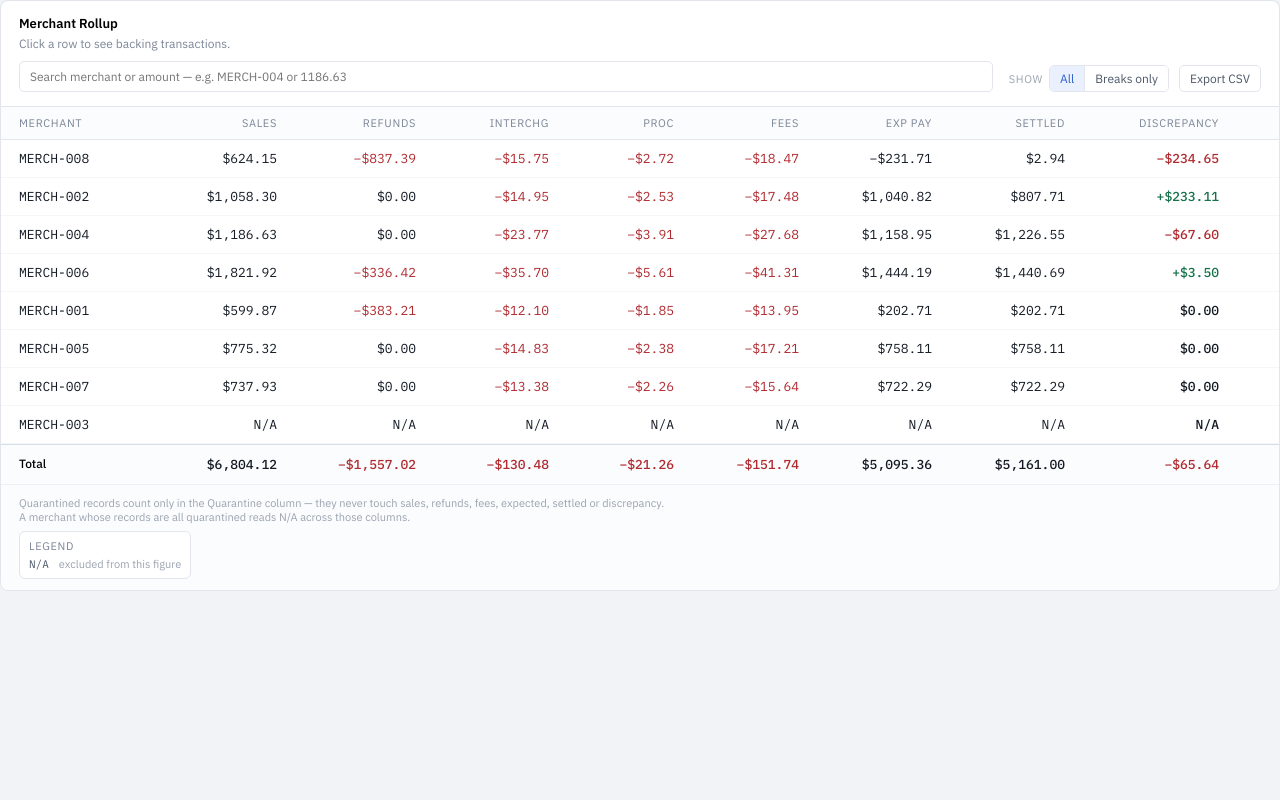
Test case: MerchantTable › search › keeps the Total row when nothing matches
In the search field with placeholder "Search merchant or amount — e.g. MERCH-004 or 1186.63": (506, 76) [19, 61, 993, 92], type "MERCH-NOPE"
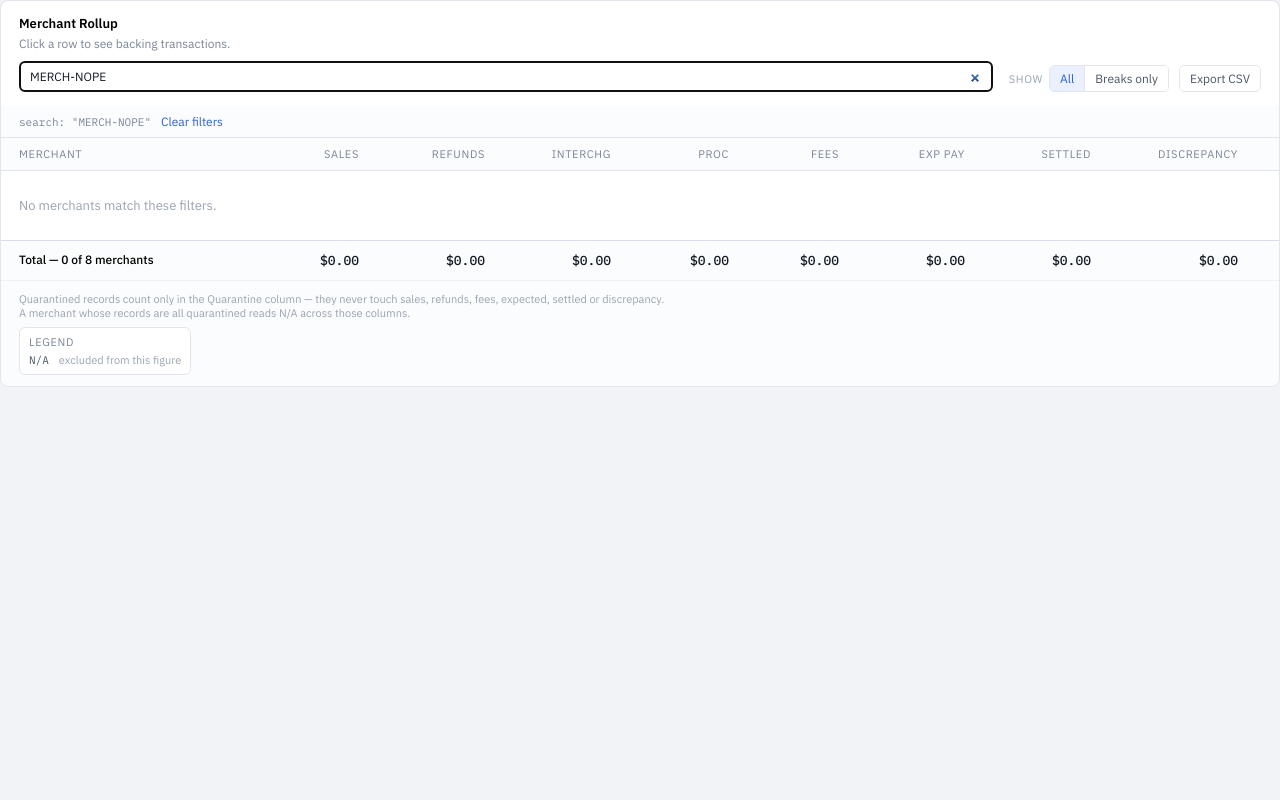
Check: the cell "Total — 0 of 8 merchants" is shown, box [19, 252, 154, 267]
